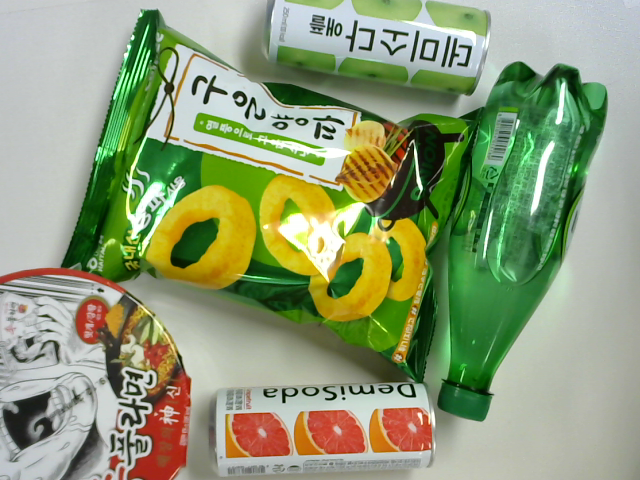Demisoda_Apple_Can_250ml: (272, 1, 504, 86)
Demisoda_Grapefruit_Can_250ml: (200, 374, 447, 480)
Grilled_Onions: (72, 19, 450, 372)
Hejangpul: (1, 265, 203, 477)
Treviraim_500ml: (434, 49, 617, 431)
